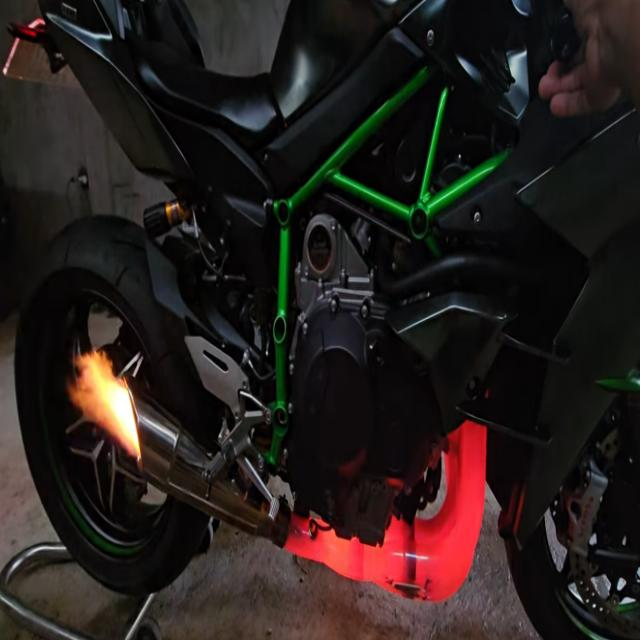fire: (69, 349, 139, 461)
